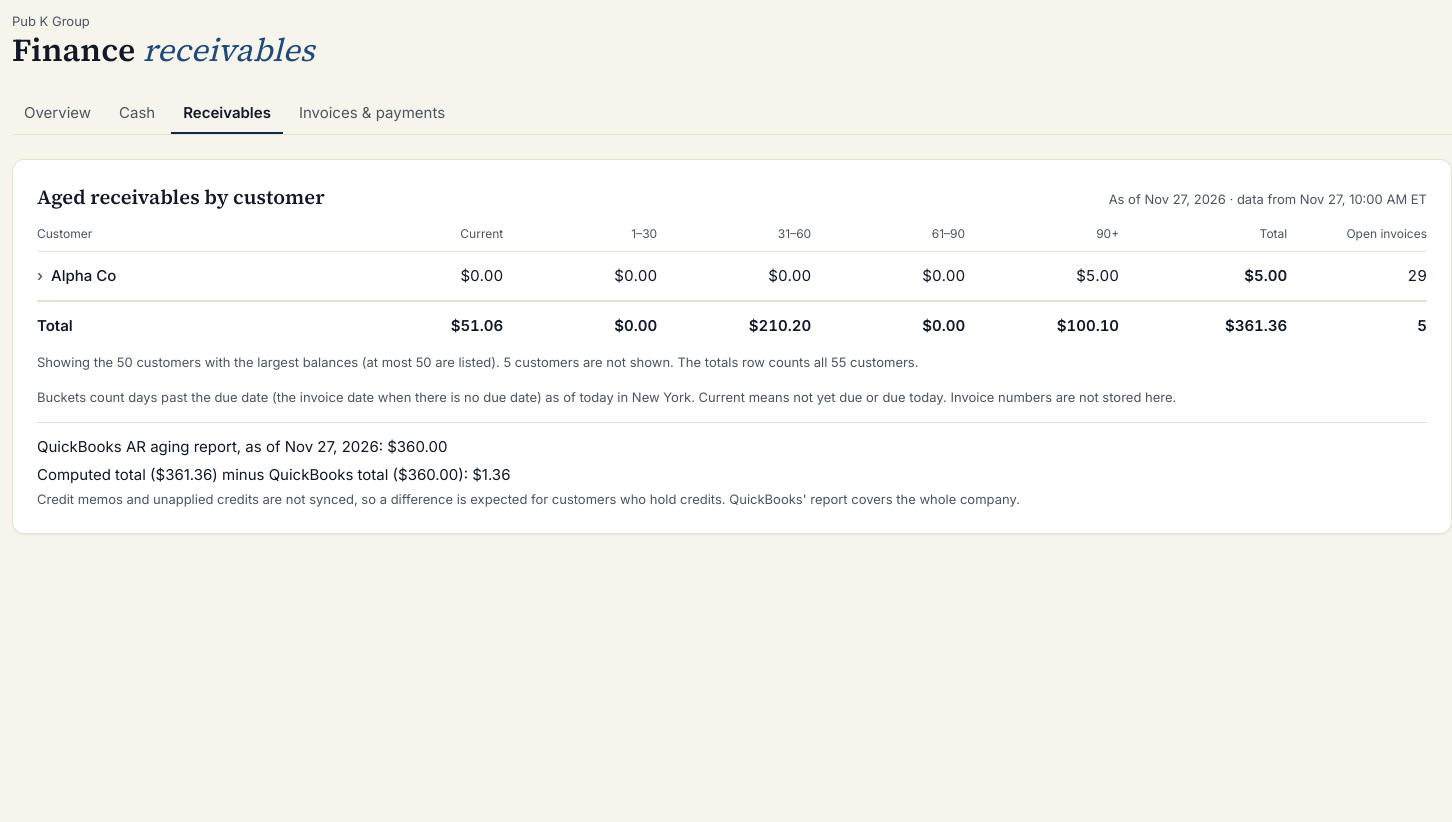
Test: Receivables tab › the caps are stated: customers not shown and invoices not listed, from SQL's numbers
Expected: the text with test id "finance-ar-cap" shows "Showing the 50 customers with the largest balances (at most 50 are listed). 5 customers are not shown. The totals row counts all 55 customers.", [37,354,918,370]
Step 1. Click the button → (77, 276), box [37,264,116,288]
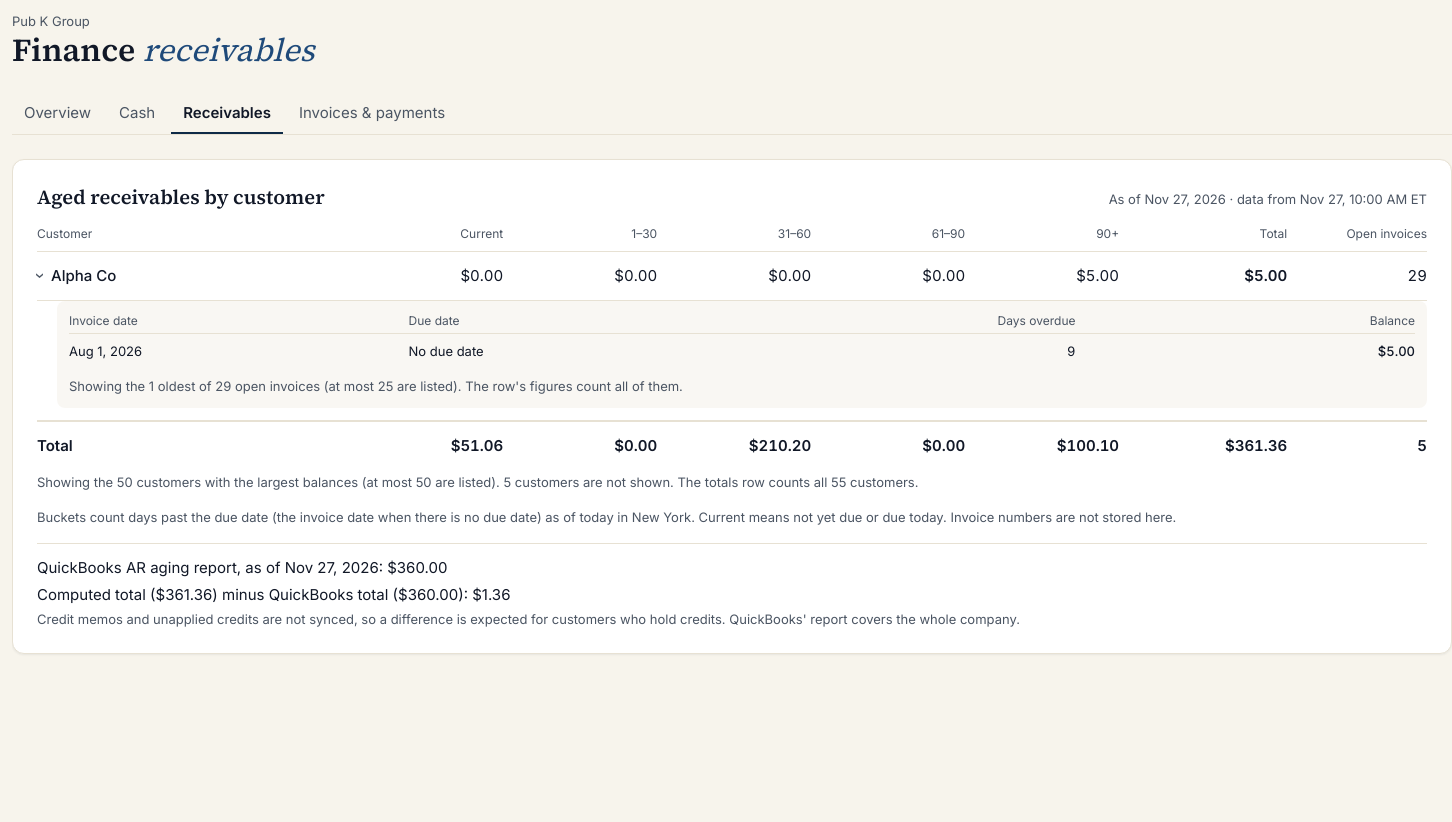
Expected: the text with test id "finance-ar-detail-cap" shows "Showing the 1 oldest of 29 open invoices (at most 25 are listed)", [69,378,683,394]
